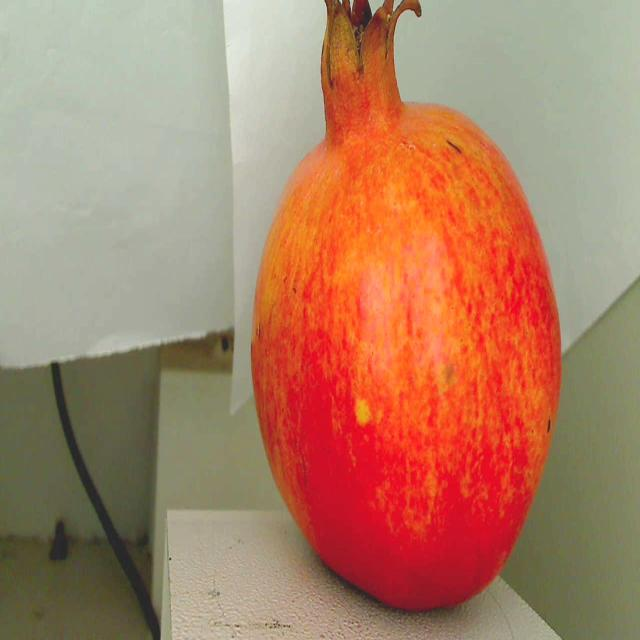pomegranate: (242, 0, 572, 640)
